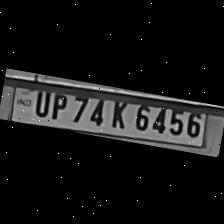4: (83, 92, 108, 125), (148, 101, 170, 133)
5: (165, 105, 186, 135)
6: (128, 99, 152, 130), (183, 109, 206, 138)
7: (66, 90, 89, 124)
K: (105, 96, 131, 128)
P: (45, 88, 69, 120)
U: (30, 85, 52, 116)
